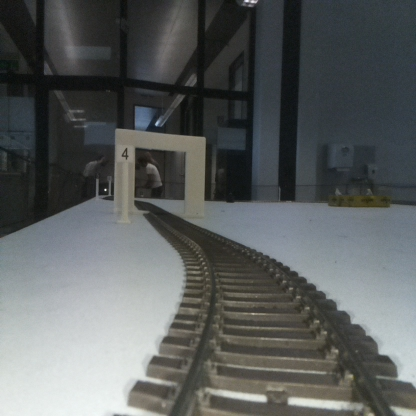white-info-4: (116, 145, 133, 221)
